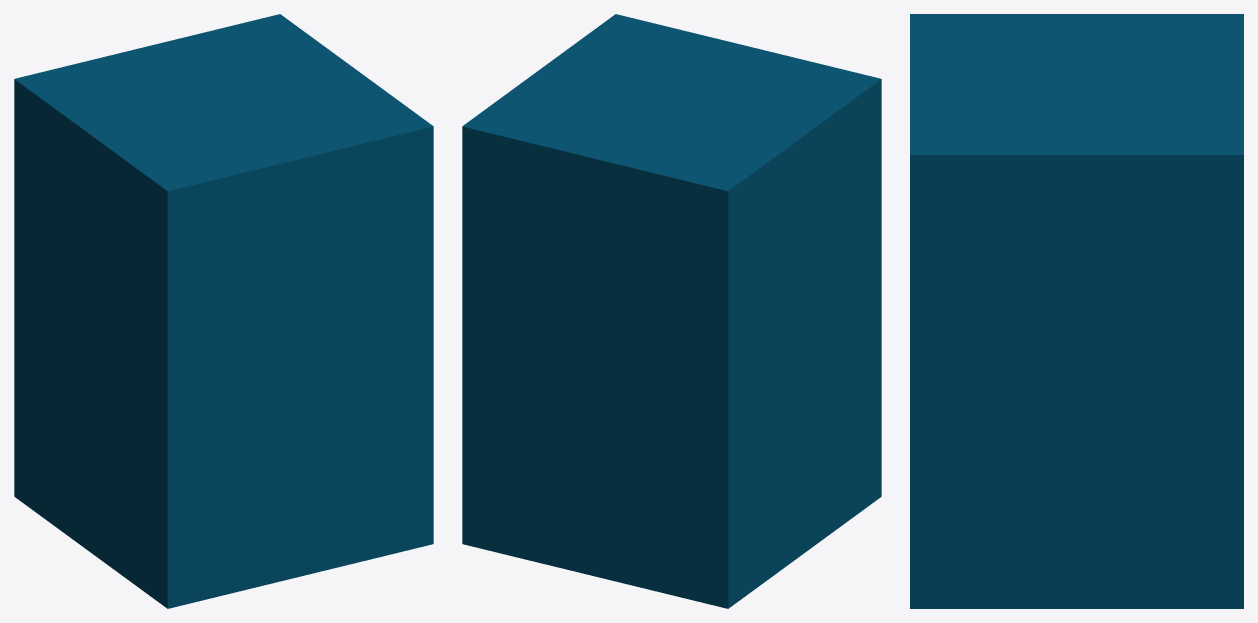
Rendered from Char18-Leg1.gltf.
3 views of the same model, side by side, from view 1: azimuth 30°, elevation 25°; view 2: azimuth 150°, elevation 25°; view 3: azimuth 270°, elevation 25° (orthographic). The views are drawn at different scales.
Size of the model in its own units: 2 by 3 by 2.
